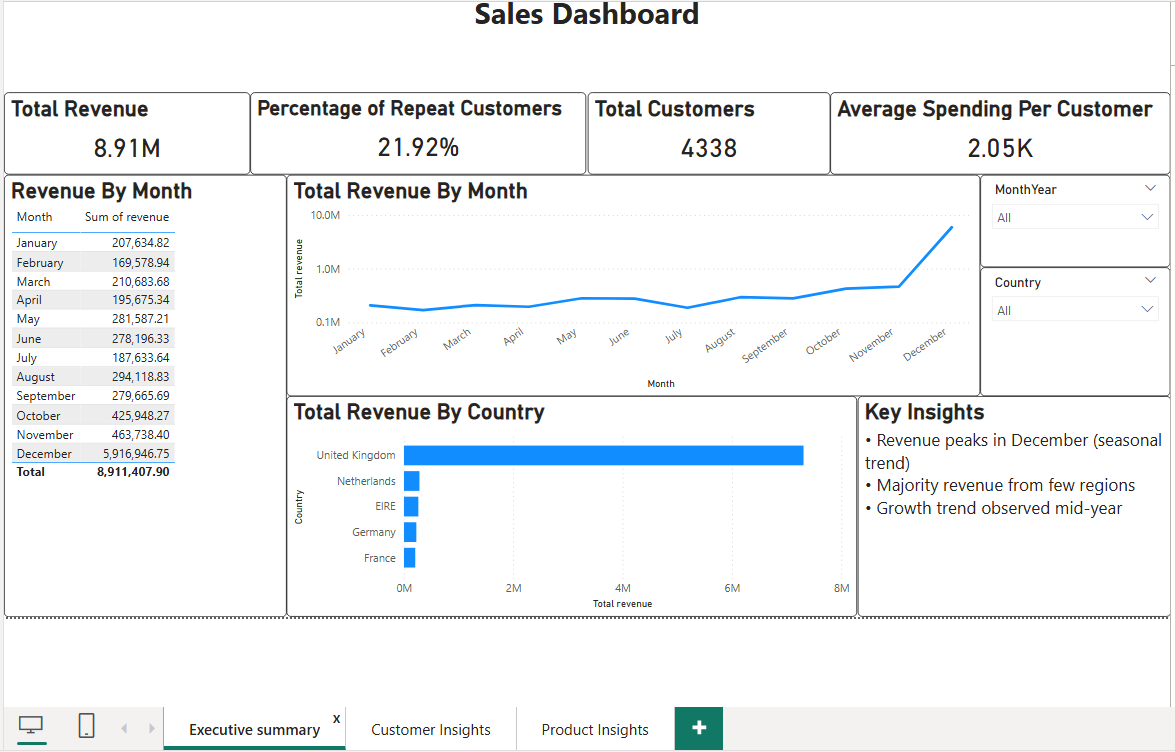

Layout of this report page (visuals, bound fields, positions):
{"tool":"powerbi","page":{"name":"Executive summary","canvas":[1280,720],"ordinal":0},"visuals":[{"type":"lineChart","title":"Total Revenue By Month","fields":{"Y":["online_retail.Total revenue"],"Category":["online_retail.MonthStart.Variation.Date Hierarchy.Month"]},"box":[310.1,234.6,761.6,242.9],"z":0},{"type":"tableEx","title":"Revenue By Month","fields":{"Values":["online_retail.MonthStart.Variation.Date Hierarchy.Month","Sum(online_retail.revenue)"]},"box":[0,234.8,310.6,485.5],"z":1000},{"type":"card","title":"Total Revenue","fields":{"Values":["online_retail.Customer Revenue"]},"box":[0,144.1,270.3,90.6],"z":2000},{"type":"card","title":"Total Customers","fields":{"Values":["online_retail.Total customer"]},"box":[640.8,144.1,266.2,90.6],"z":3000},{"type":"card","title":"Average Spending Per Customer","fields":{"Values":["online_retail.Average spending"]},"box":[907,144.1,373.2,90.6],"z":4000},{"type":"actionButton","box":[0,0,100,40],"z":5000},{"type":"textbox","title":"Key Insights","box":[936.7,478.1,343.6,242.1],"z":6000},{"type":"textbox","box":[0,30.6,1280.3,113.7],"z":7000},{"type":"barChart","title":"Total Revenue By Country","fields":{"Category":["online_retail.Country"],"Y":["online_retail.Total revenue"]},"box":[310.6,478.1,626.1,242.1],"z":8000},{"type":"card","title":"Percentage of Repeat Customers","fields":{"Values":["online_retail.Repeat Customers %"]},"box":[270.3,144.1,369.1,90.6],"z":9000},{"type":"slicer","fields":{"Values":["online_retail.MonthYear"]},"box":[1071.7,234.6,208.6,101.5],"z":10000},{"type":"slicer","fields":{"Values":["online_retail.Country"]},"box":[1071.7,336.2,208.6,141.3],"z":10001}]}

Visuals, with their boxes in screenshot pixels (x1, y1, x2, y2):
"Total Revenue By Month" lineChart: x1=284 y1=176 x2=973 y2=396
"Revenue By Month" tableEx: x1=3 y1=176 x2=284 y2=615
"Total Revenue" card: x1=3 y1=94 x2=248 y2=176
"Total Customers" card: x1=583 y1=94 x2=824 y2=176
"Average Spending Per Customer" card: x1=824 y1=94 x2=1162 y2=176
"Key Insights" textbox: x1=851 y1=396 x2=1162 y2=615
textbox: x1=3 y1=0 x2=1162 y2=94
"Total Revenue By Country" barChart: x1=284 y1=396 x2=851 y2=615
"Percentage of Repeat Customers" card: x1=248 y1=94 x2=582 y2=176
slicer - online_retail.MonthYear: x1=973 y1=176 x2=1162 y2=268
slicer - online_retail.Country: x1=973 y1=268 x2=1162 y2=396
